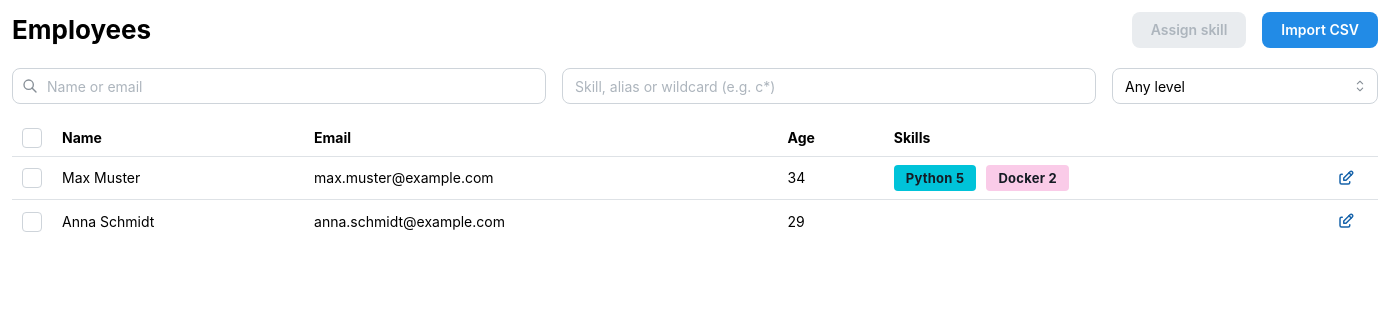
EmployeeOverview › clears a row again when its checkbox is clicked a second time
Click the checkbox named "Select Max Muster". click: x=32, y=178
box: [22,168,42,188]
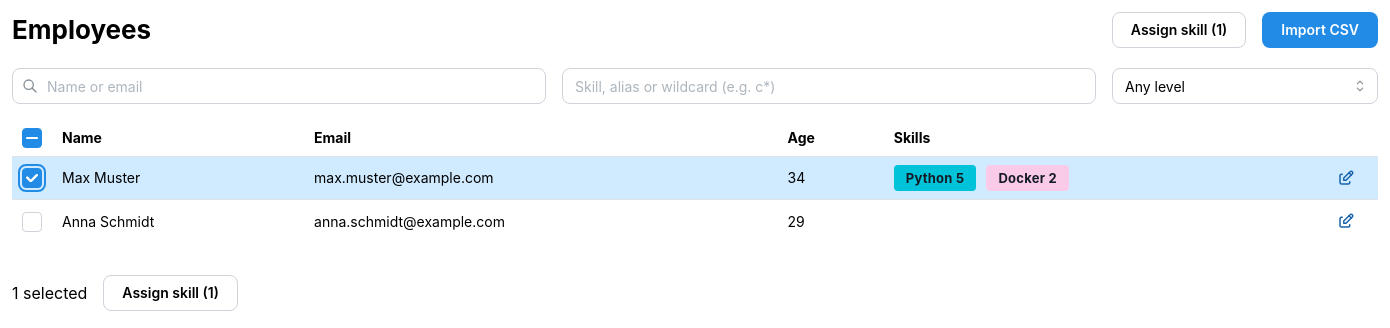
Click the checkbox named "Select Max Muster". click: x=32, y=178
box: [22,168,42,188]
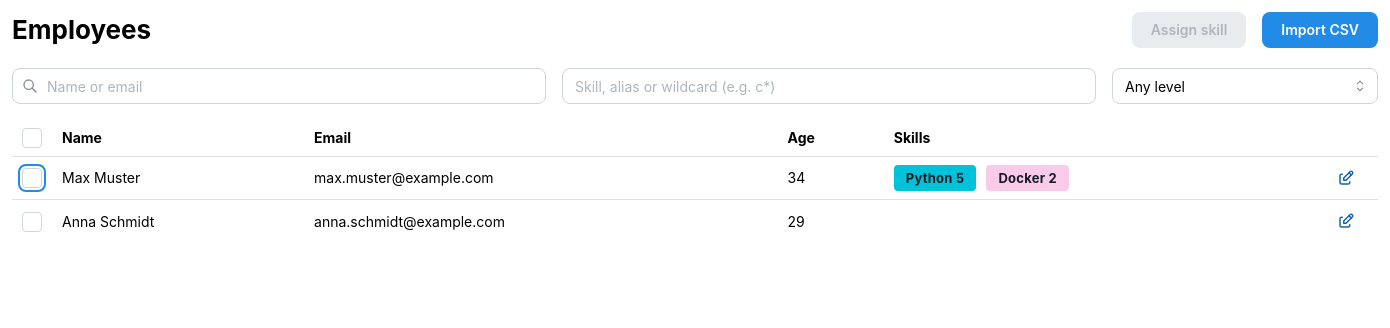
Expected: the checkbox named "Select Max Muster" is not checked, [22,168,42,188]
Expected: the button "Assign skill" is disabled, [1132,12,1246,48]
